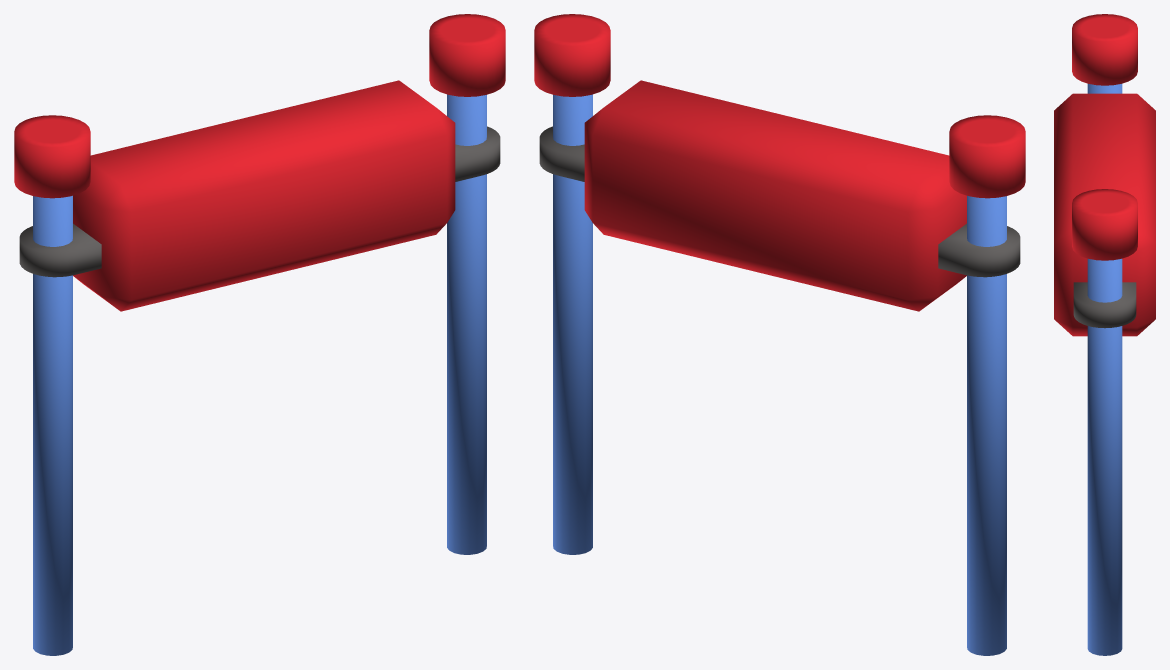
The model's file is Obstacle 25 V1.fbx.
3 views of the same model, side by side, from view 1: azimuth 30°, elevation 25°; view 2: azimuth 150°, elevation 25°; view 3: azimuth 270°, elevation 25° (orthographic). The views are drawn at different scales.
Parts seen in each view (by area): view 1: O25 Part 1, O25 Part 2; view 2: O25 Part 1, O25 Part 2; view 3: O25 Part 2, O25 Part 1.
Part boxes in pixels (x1,y1,x2,y2): O25 Part 1: (19, 80, 500, 311); O25 Part 2: (14, 14, 505, 655); O25 Part 1: (539, 80, 1020, 311); O25 Part 2: (534, 14, 1025, 655); O25 Part 2: (1072, 14, 1137, 655); O25 Part 1: (1054, 93, 1155, 336).
Size of the model in its own units: 294 by 302 by 62.5.
1 material, 1 textured.
